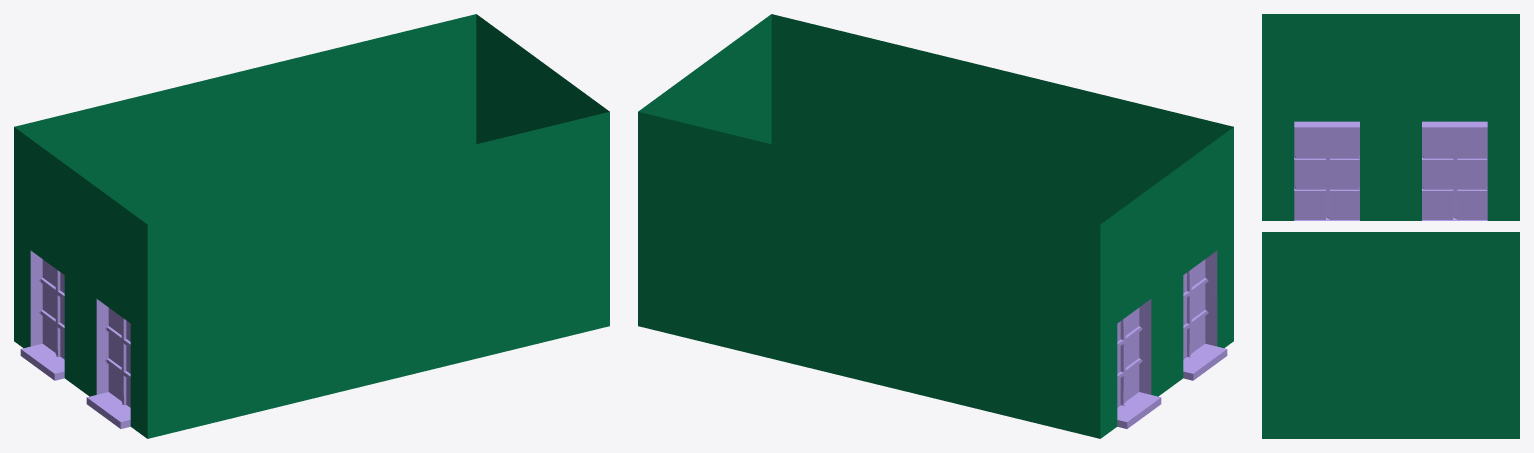
File: Middle1.fbx
3 views of the same model, side by side, from view 1: azimuth 30°, elevation 25°; view 2: azimuth 150°, elevation 25°; view 3: azimuth 270°, elevation 25° (orthographic). The views are drawn at different scales.
Visible parts, largest first — view 1: M1; view 2: M1; view 3: M1.
Part boxes in pixels (x1,y1,x2,y2): M1: (14,14,609,438); M1: (638,14,1233,438); M1: (1262,14,1519,438).
Bounding box in the file's own units: 8.17 × 3.54 × 4.
